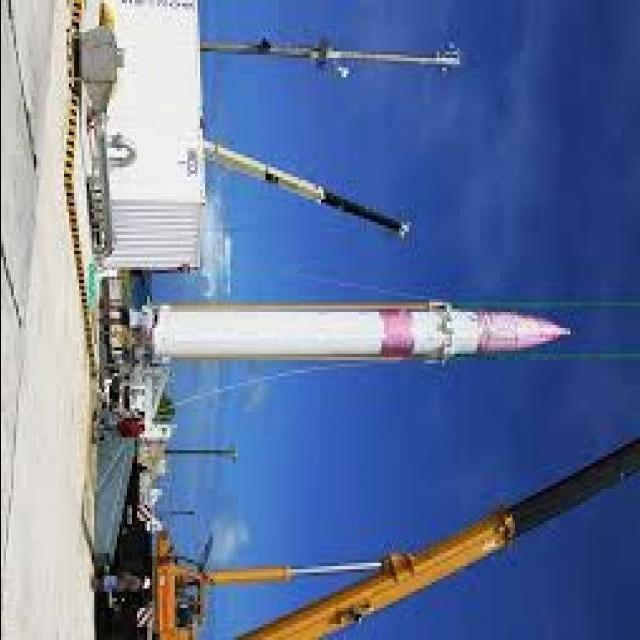missile: (138, 300, 586, 364)
